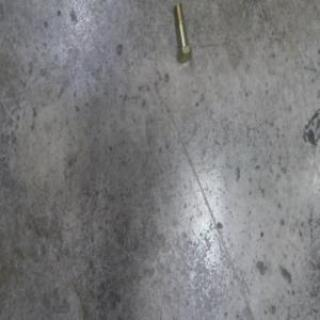Bolttrack_idkeyframe: (171, 6, 189, 66)
